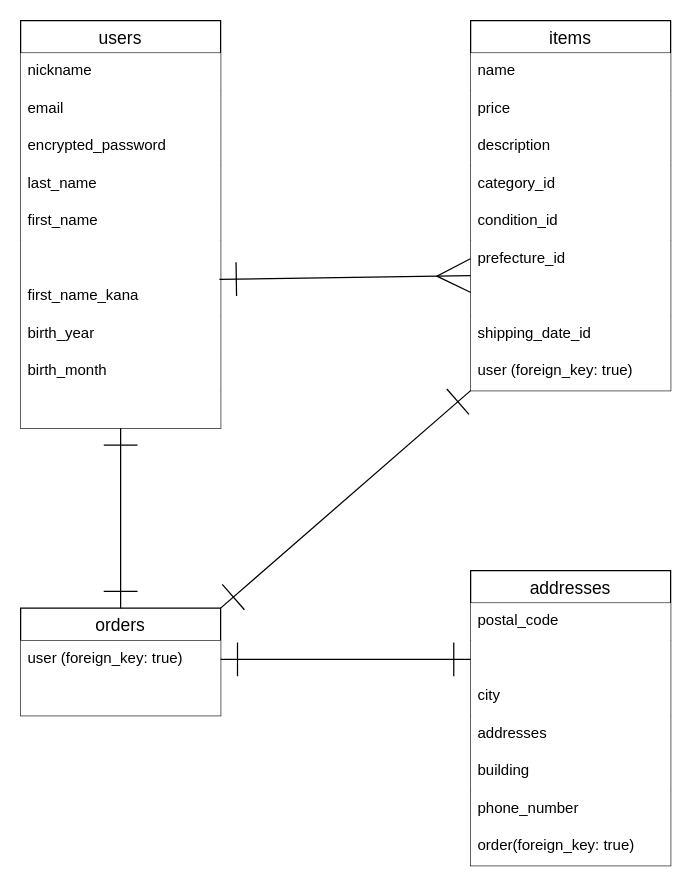
This 691x886 diagram has some shape labels left out. Here are the shapes that lost their labels. From the top down, the centre of each, then its label:
the point at 120,259: last_name_kana
the point at 570,296: shipping_fee_id
the point at 120,409: birth_day
the point at 570,659: prefesture
the point at 120,696: item (foreign_key: true)
